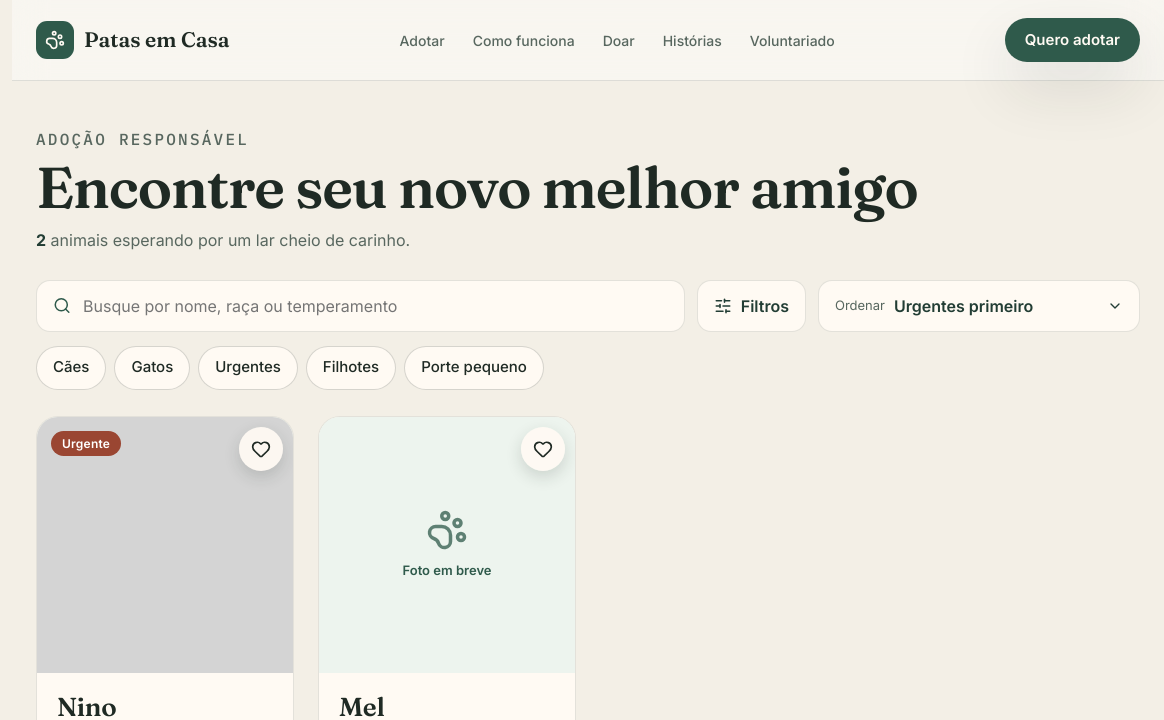
search waits for typing to stop and also finds temperament
This screenshot has width=1164, height=720.
Step 1. Type "brincalhao" into the search field → [375, 306], box [83,294,668,318]
(page scrolled)
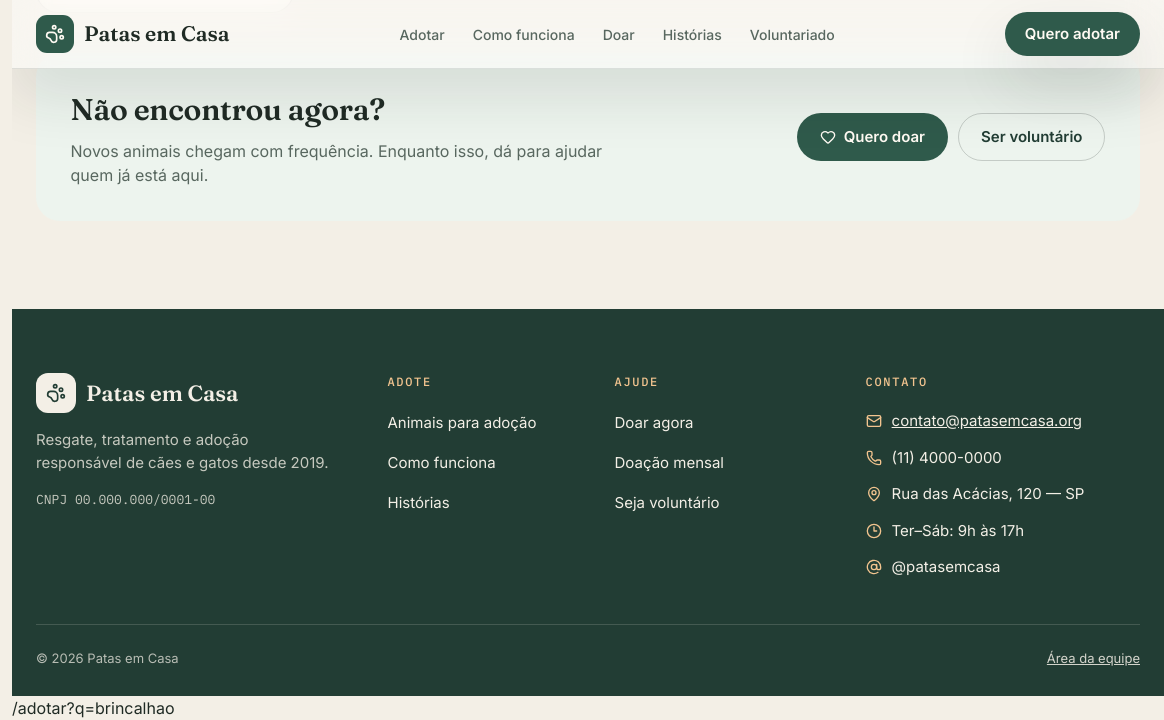
expect the text with test id "location" shows "q=brincalhao": met, box [12,698,174,718]
